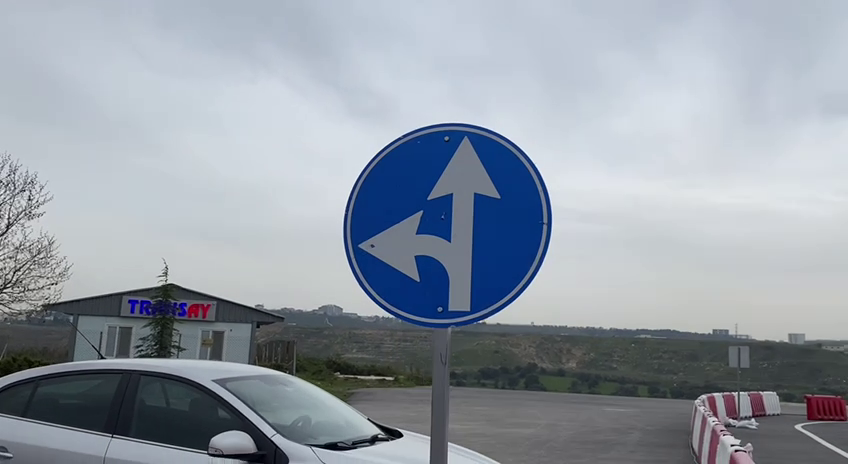forwardAndLeft: (339, 119, 556, 333)
